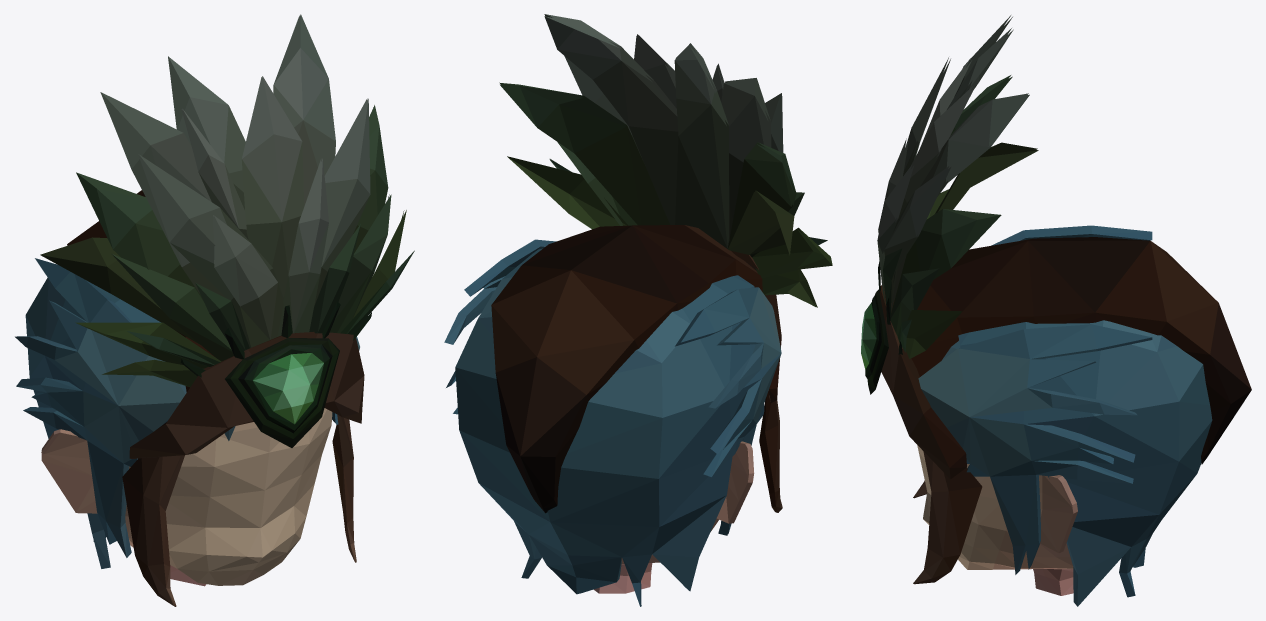
The model's file is helm_lightskin_spike_blue_headress.fbx.
3 views of the same model, side by side, from view 1: azimuth 30°, elevation 25°; view 2: azimuth 150°, elevation 25°; view 3: azimuth 270°, elevation 25° (orthographic). The views are drawn at different scales.
Visible parts, largest first — view 1: helm_lightskin_spike_blue_headress; view 2: helm_lightskin_spike_blue_headress; view 3: helm_lightskin_spike_blue_headress.
Boxes of the visible parts, box(x1,y1,x2,y2) form: helm_lightskin_spike_blue_headress: box(15, 14, 414, 606); helm_lightskin_spike_blue_headress: box(444, 14, 832, 606); helm_lightskin_spike_blue_headress: box(861, 15, 1251, 606).
Bounding box in the file's own units: 1.29 × 2.05 × 1.35.
